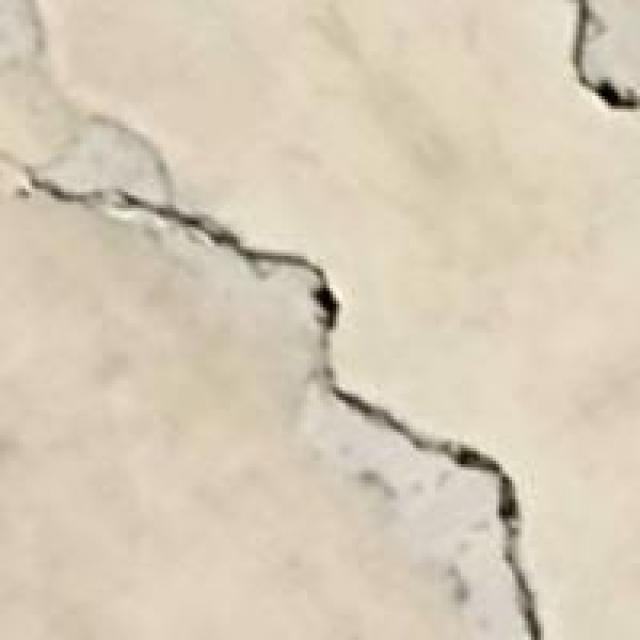Crack: (29, 134, 582, 637)
